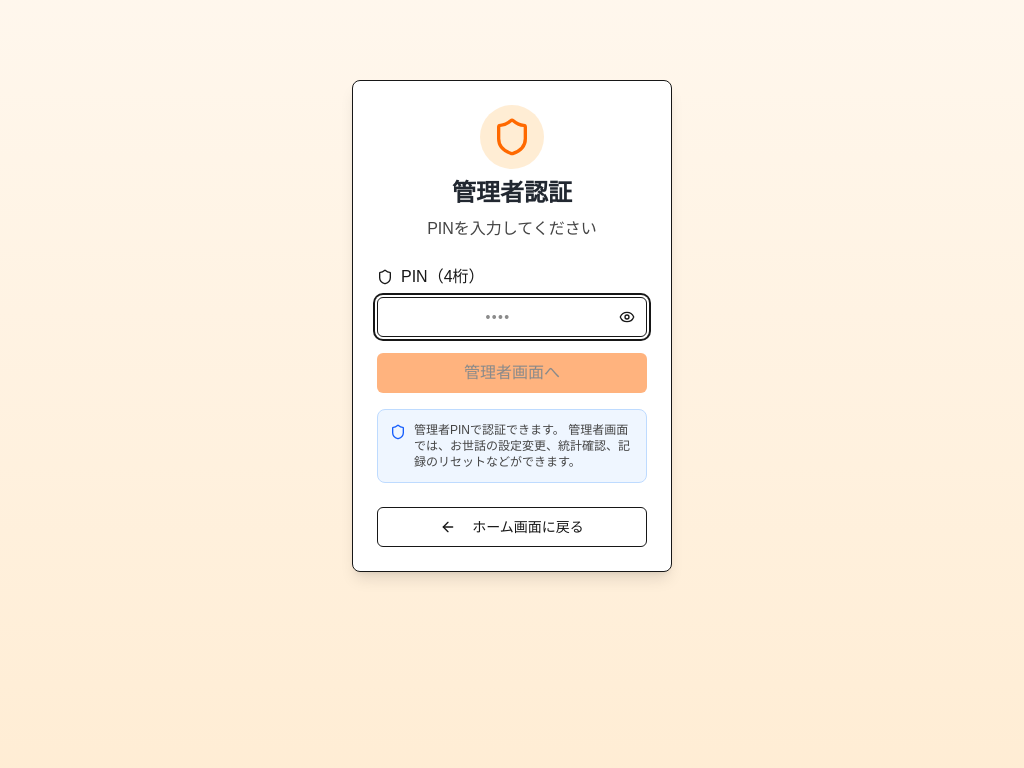
Scenario: 管理者基本機能テスト › 管理者ログインページ › 間違ったPINで認証失敗時エラーメッセージを表示
The image size is (1024, 768).
In the password field labelled "PIN（4桁）": [512, 317] box [377, 297, 647, 337], type "9999"
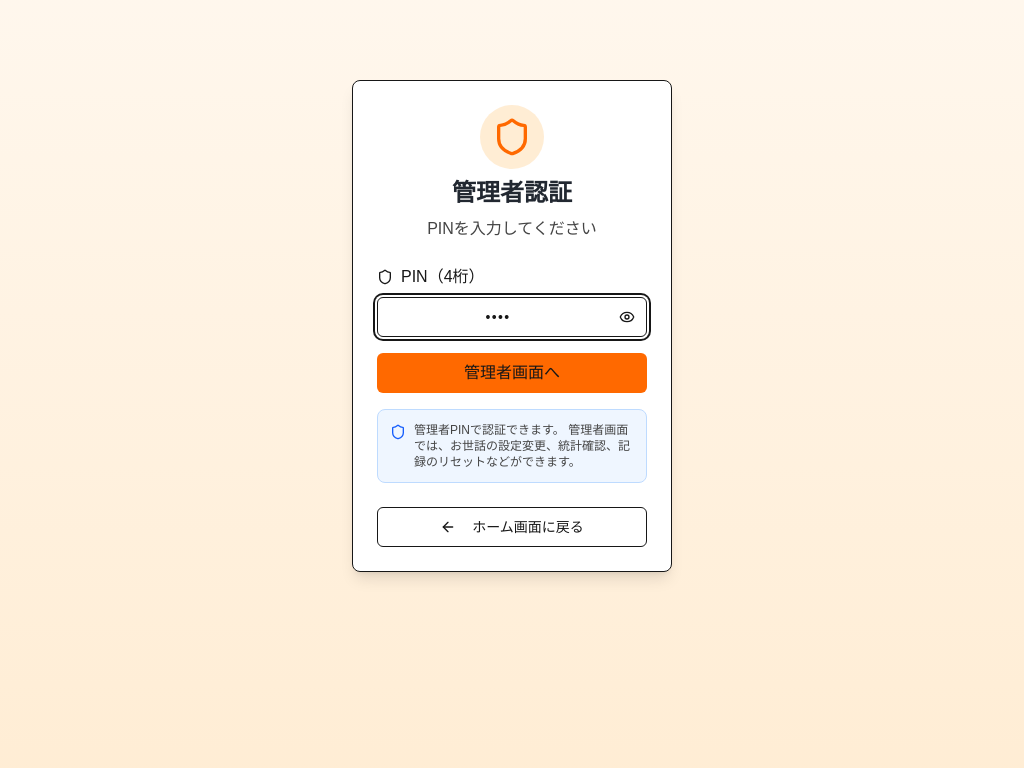
Click the button "管理者画面へ": [512, 373] box [377, 353, 647, 393]
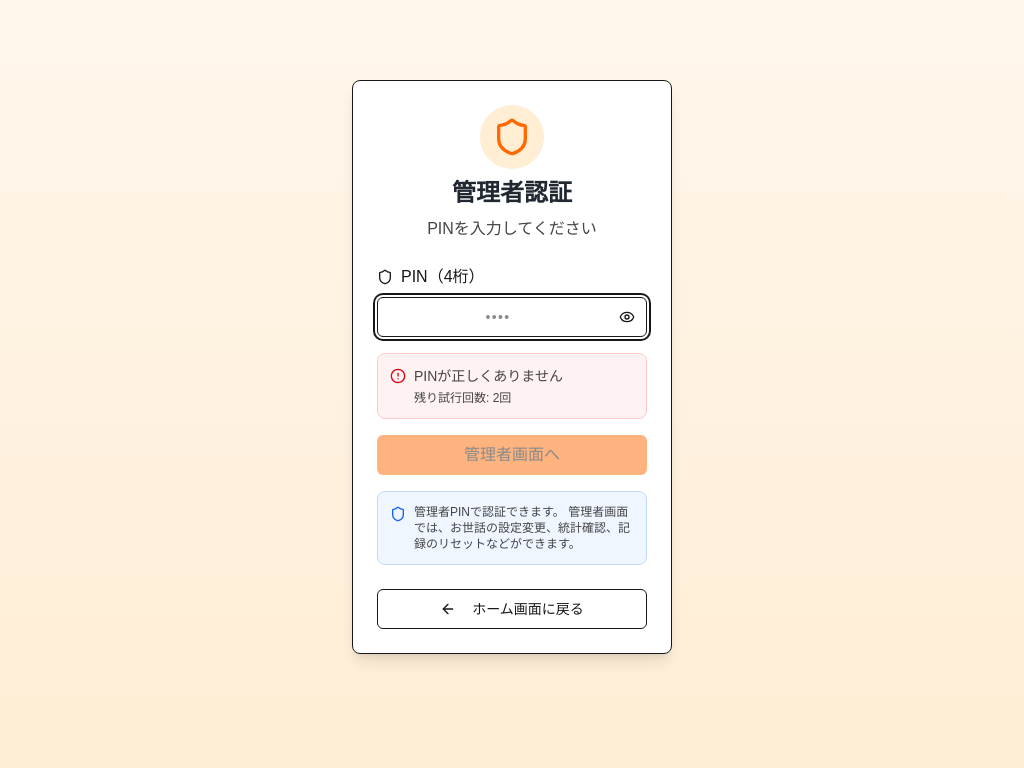
Result: the text "PINが正しくありません" is shown at [414, 366, 563, 386]
Result: the password field labelled "PIN（4桁）" is empty at [377, 297, 647, 337]
